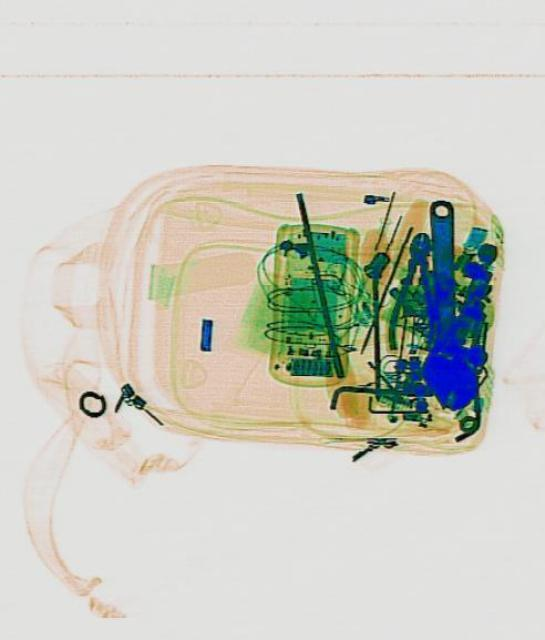Pliers: (384, 228, 443, 356)
Wrench: (412, 198, 478, 412)
